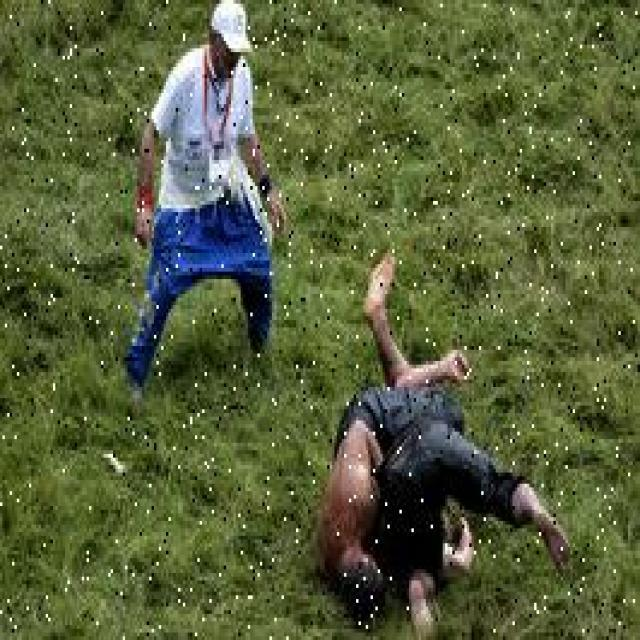fall: (318, 372, 477, 603)
